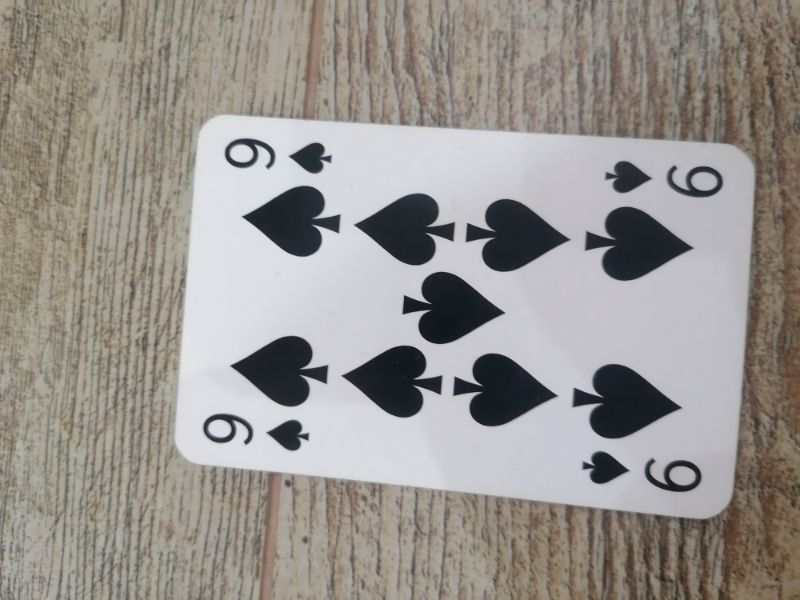9s: (578, 447, 705, 500), (601, 156, 729, 202), (222, 133, 338, 181), (199, 409, 314, 456)
